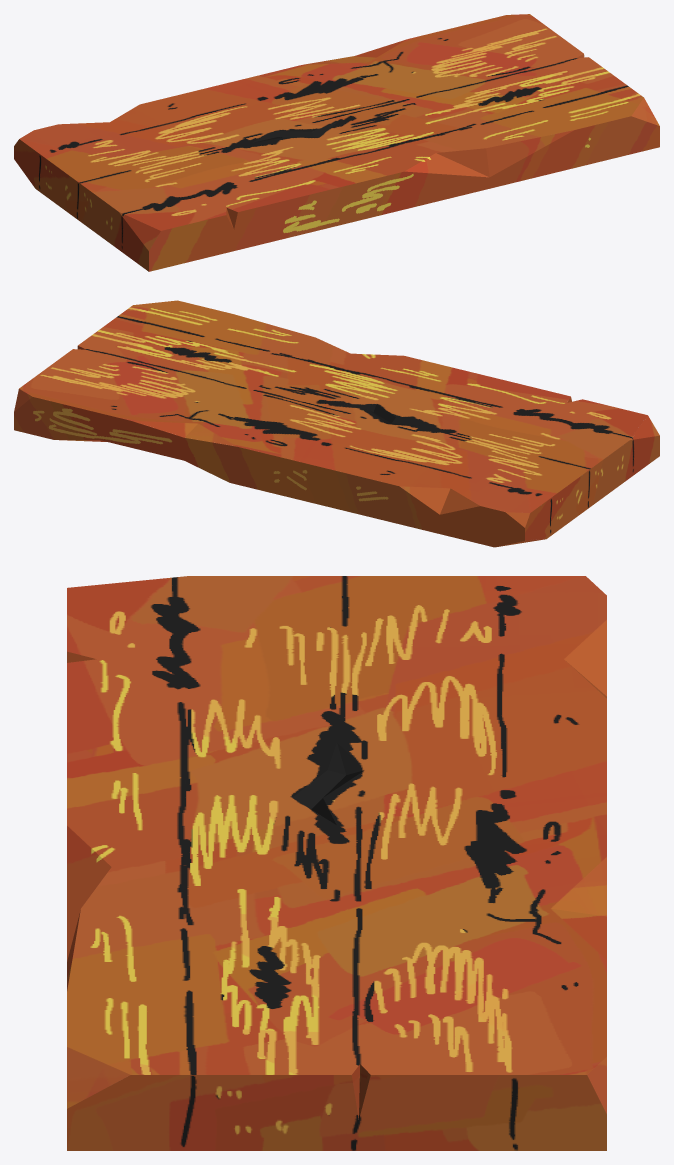
File: Desk.glb
3 renders of one model, top to bottom at view 1: azimuth 30°, elevation 25°; view 2: azimuth 150°, elevation 25°; view 3: azimuth 270°, elevation 25°, orthographic. The views are drawn at different scales.
Visible parts, largest first — view 1: Masa; view 2: Masa; view 3: Masa.
Part boxes in pixels (<box>): Masa: <box>14,14,659,271</box>; Masa: <box>14,300,659,547</box>; Masa: <box>67,576,606,1150</box>.
Size of the model in its own units: 19.97 by 1.42 by 9.13.
Materials: 1 (1 with a texture image).
